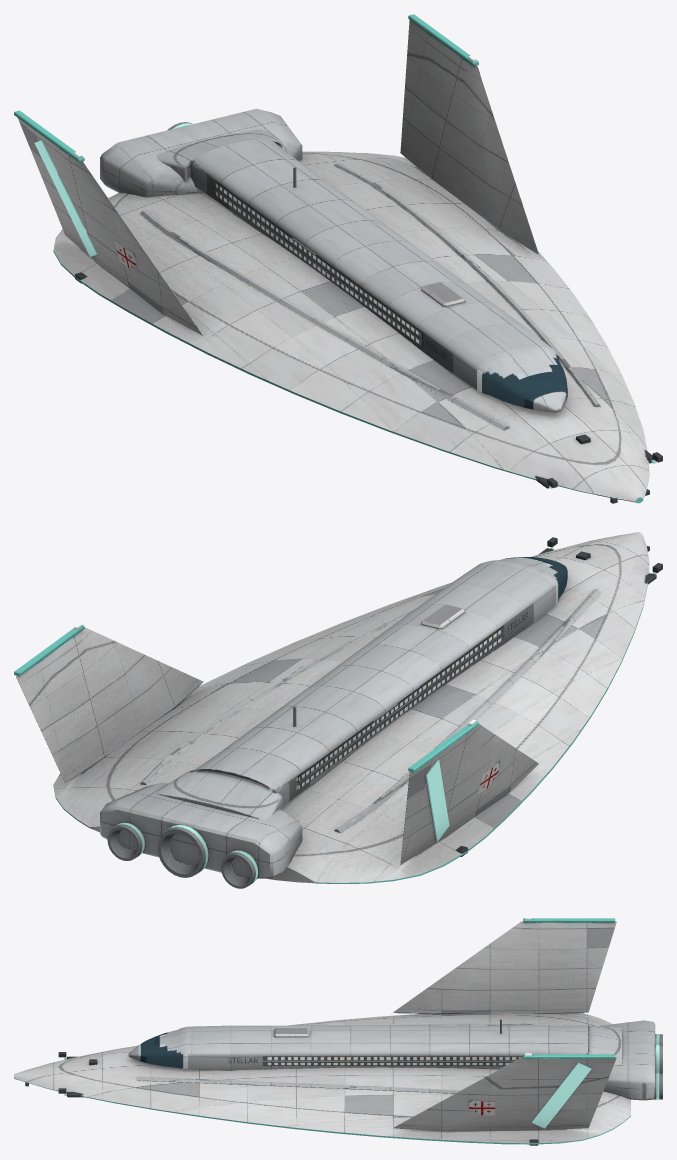
The model's file is ship-cruiser.glb.
3 views of the same model, one above another, from view 1: azimuth 30°, elevation 25°; view 2: azimuth 150°, elevation 25°; view 3: azimuth 270°, elevation 25° (orthographic). The views are drawn at different scales.
Parts seen in each view (by area): view 1: ShipCruiser_Body; view 2: ShipCruiser_Body; view 3: ShipCruiser_Body.
Part boxes in pixels (x1=…): ShipCruiser_Body: x1=14, y1=14, x2=662, y2=503; ShipCruiser_Body: x1=14, y1=532, x2=662, y2=888; ShipCruiser_Body: x1=14, y1=917, x2=662, y2=1145.
Size of what is drawn, in the model's own units: 14.84 by 5.32 by 29.45.
Materials: 2 (2 with a texture image).
